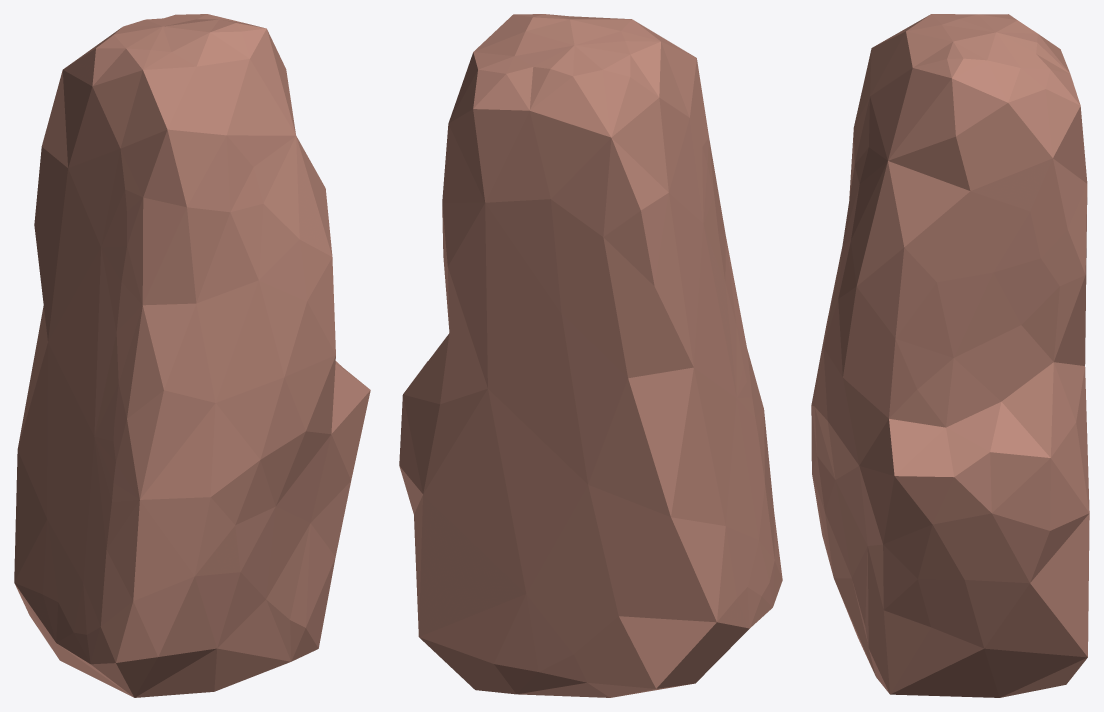
Rendered from boulder_014.fbx.
The picture shows the model from 3 angles, left to right: view 1: azimuth 30°, elevation 25°; view 2: azimuth 150°, elevation 25°; view 3: azimuth 270°, elevation 25°; orthographic projection. The views are drawn at different scales.
Parts seen in each view (by area): view 1: boulder_014; view 2: boulder_014; view 3: boulder_014.
Part boxes in pixels (x1,y1,x2,y2): boulder_014: [14, 14, 370, 697]; boulder_014: [399, 14, 782, 697]; boulder_014: [811, 14, 1089, 697].
Bounding box in the file's own units: 927 × 732 × 1830.
